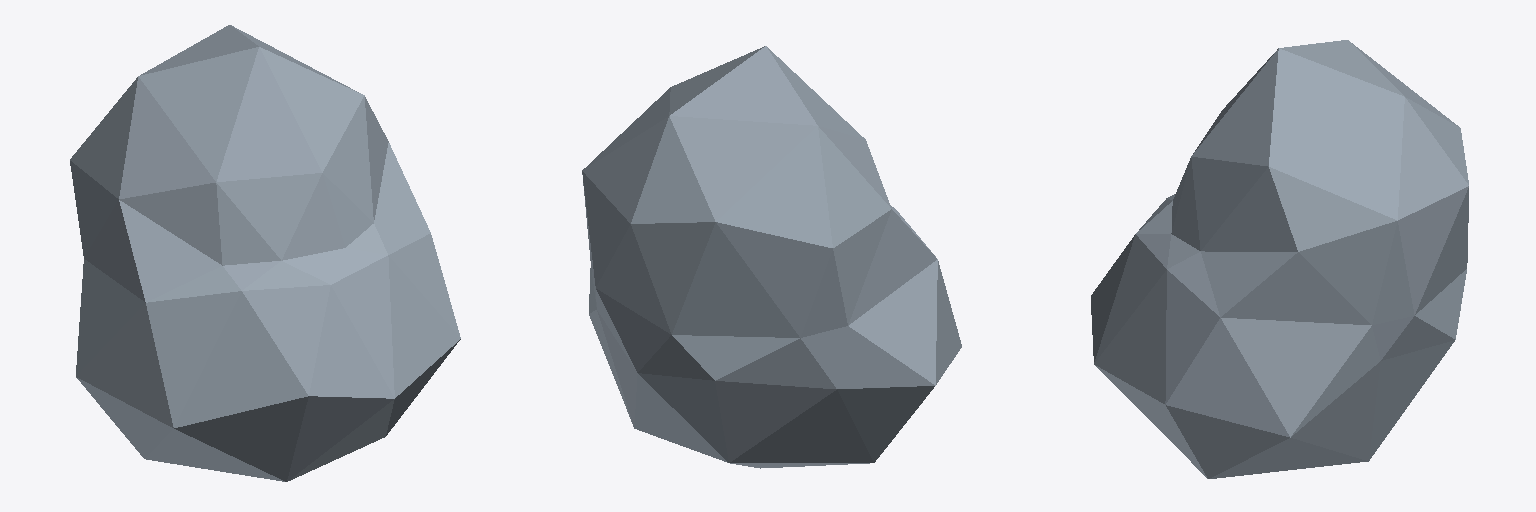
Rendered from trashpaper.obj.
3 views of the same model, side by side, from view 1: azimuth 30°, elevation 25°; view 2: azimuth 150°, elevation 25°; view 3: azimuth 270°, elevation 25° (orthographic).
Visible parts, largest first — view 1: Paper_Icosphere; view 2: Paper_Icosphere; view 3: Paper_Icosphere.
Boxes of the visible parts, <box> form: Paper_Icosphere: <box>70,25,460,481</box>; Paper_Icosphere: <box>582,46,961,468</box>; Paper_Icosphere: <box>1091,40,1468,478</box>.
Bounding box in the file's own units: 0.6318 × 0.7256 × 0.5955.